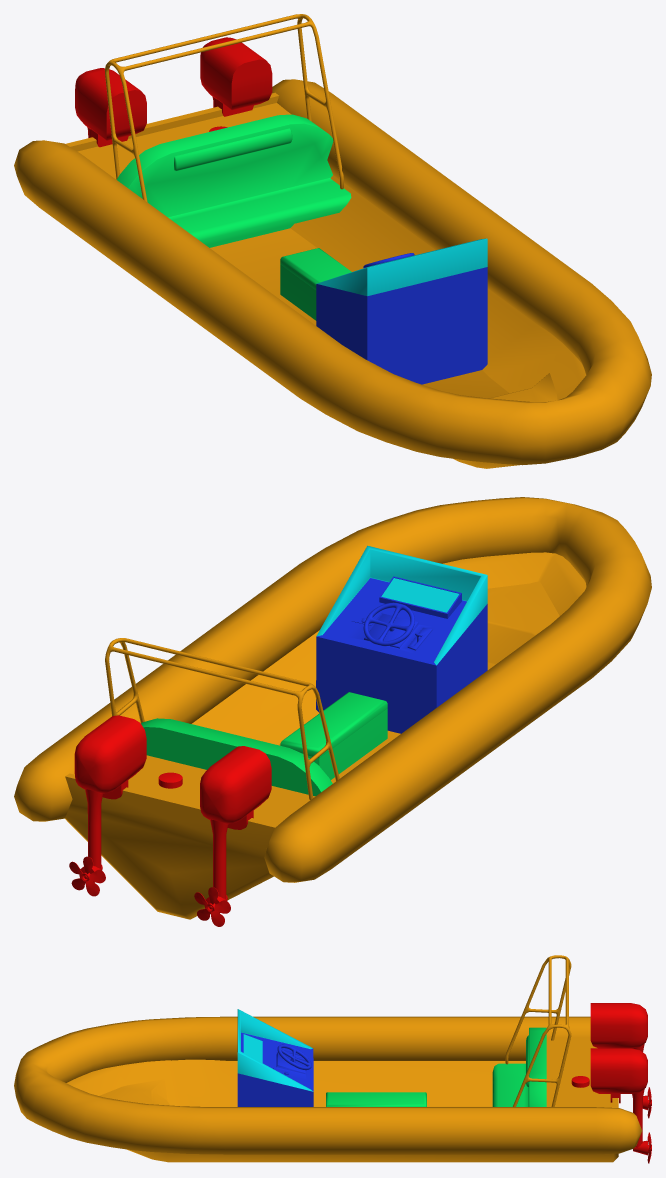
File: speedboat.fbx
3 views of the same model, one above another, from view 1: azimuth 30°, elevation 25°; view 2: azimuth 150°, elevation 25°; view 3: azimuth 270°, elevation 25° (orthographic). The views are drawn at different scales.
Parts seen in each view (by area): view 1: Cube.001; view 2: Cube.001; view 3: Cube.001.
Boxes of the visible parts, x1,y1,x2,y2 form: Cube.001: (14,14,651,468); Cube.001: (14,497,651,926); Cube.001: (14,955,651,1163).
Bounding box in the file's own units: 492 × 349 × 1193.
